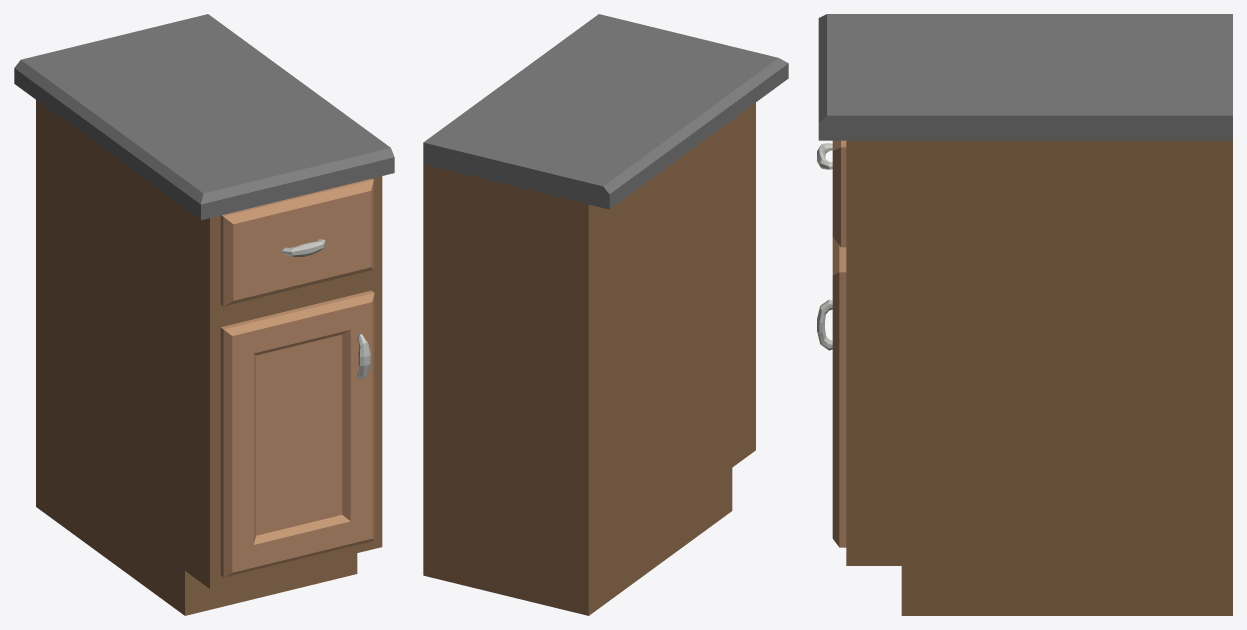
File: Bathroom_Cabinet_End.obj
The picture shows the model from 3 angles, left to right: view 1: azimuth 30°, elevation 25°; view 2: azimuth 150°, elevation 25°; view 3: azimuth 270°, elevation 25°; orthographic projection. The views are drawn at different scales.
Visible parts, largest first — view 1: object3, object2, object4, object1; view 2: object3, object2; view 3: object3, object2, object4, object1.
Part boxes in pixels (bbox=[...]): object3: bbox=[36, 100, 382, 615]; object2: bbox=[14, 14, 394, 220]; object4: bbox=[220, 290, 374, 577]; object1: bbox=[220, 178, 373, 306]; object3: bbox=[423, 102, 755, 615]; object2: bbox=[423, 14, 788, 209]; object3: bbox=[846, 140, 1232, 615]; object2: bbox=[818, 14, 1232, 140]; object4: bbox=[832, 237, 846, 547]; object1: bbox=[832, 140, 846, 247].
Size of the model in its own units: 0.45 by 1 by 0.7531.
